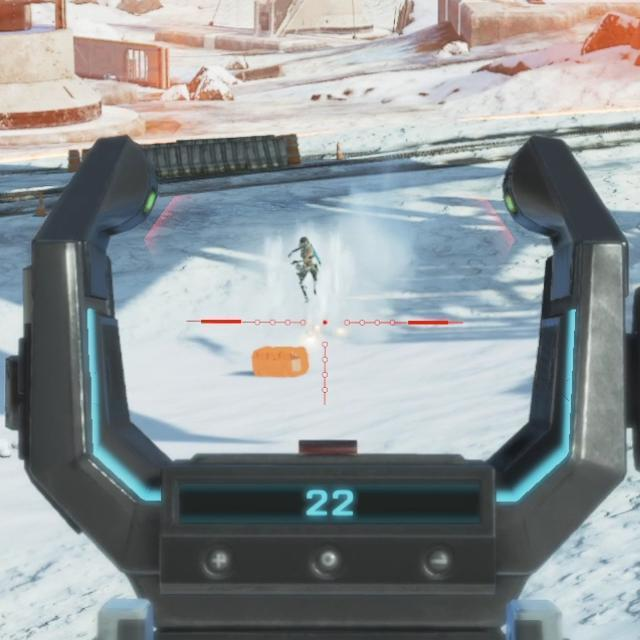avatar: (286, 234, 322, 303)
